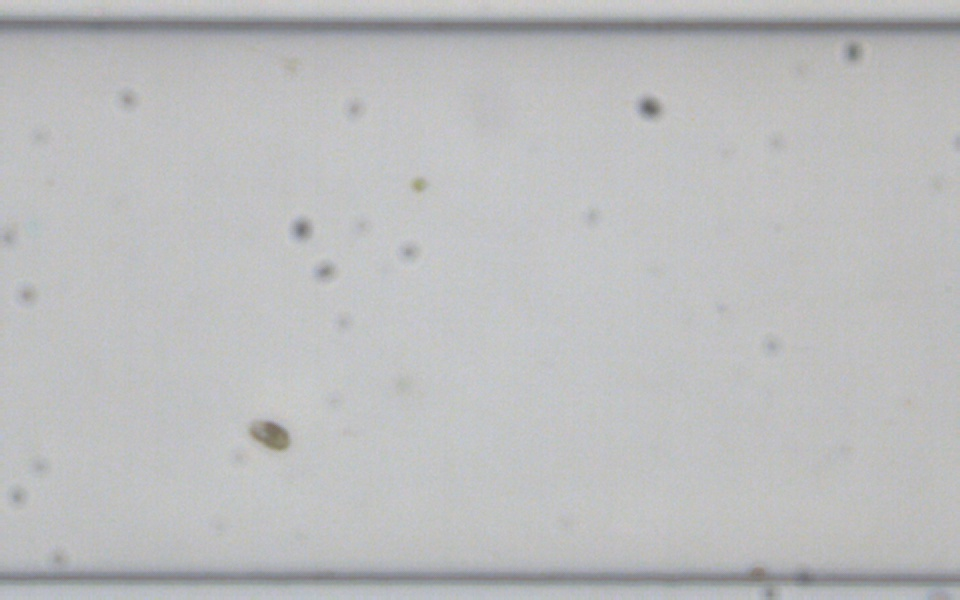Chlorella: (410, 175, 427, 191)
Dunaliella salina: (246, 418, 293, 451)
